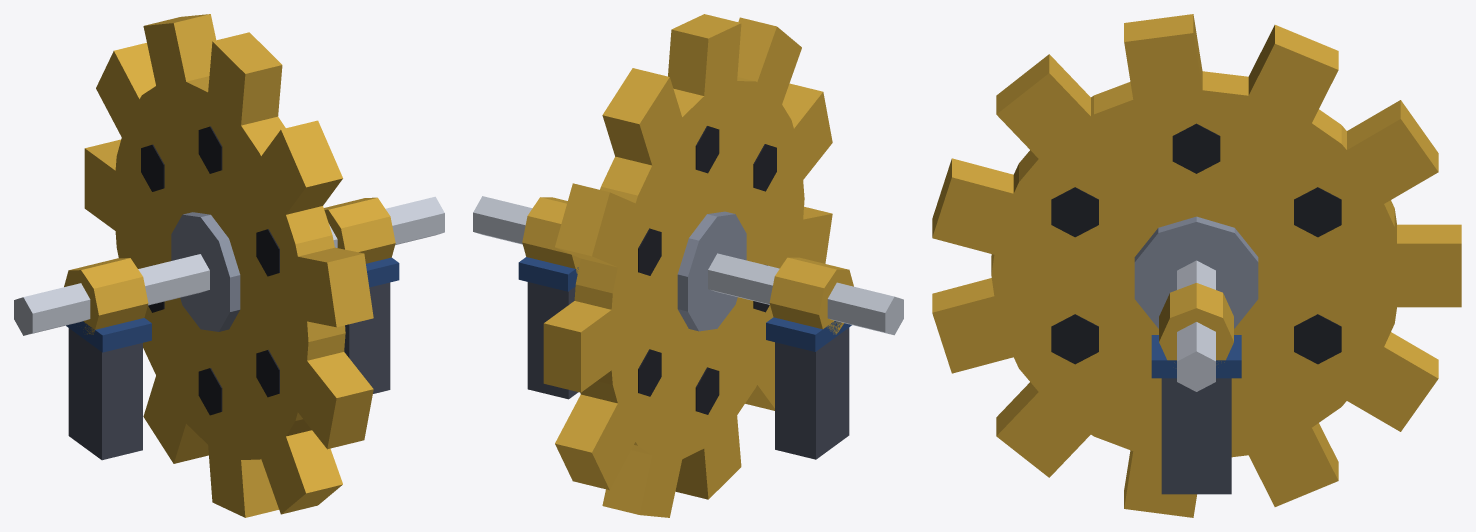
File: gear.glb
3 renders of one model, left to right at view 1: azimuth 30°, elevation 25°; view 2: azimuth 150°, elevation 25°; view 3: azimuth 270°, elevation 25°, orthographic. The views are drawn at different scales.
Visible parts, largest first — view 1: spin-x, gear; view 2: spin-x, gear; view 3: spin-x, gear.
Boxes of the visible parts, bbox=[...] form: spin-x: bbox=[14, 14, 444, 517]; gear: bbox=[64, 197, 399, 460]; spin-x: bbox=[473, 14, 903, 517]; gear: bbox=[518, 197, 853, 459]; spin-x: bbox=[932, 14, 1461, 517]; gear: bbox=[1151, 283, 1241, 494].
Bounding box in the file's own units: 1 × 1.07 × 1.06.
Materials: 2 (2 with a texture image).
